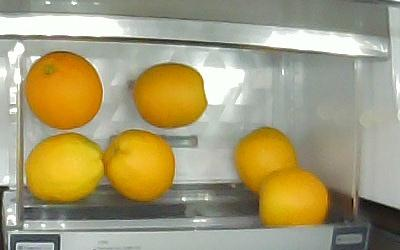orange: (25, 51, 103, 130), (26, 133, 104, 203), (102, 130, 176, 201), (128, 62, 207, 128), (235, 127, 297, 195), (260, 169, 328, 225)
